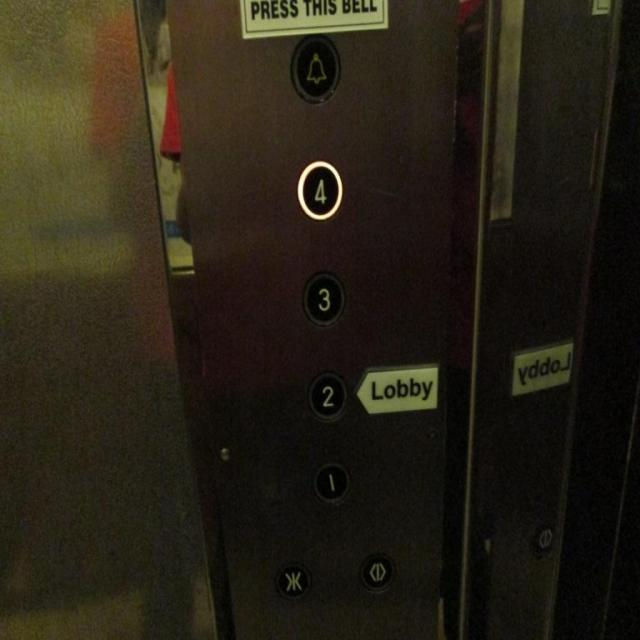1: (310, 458, 353, 508)
2: (305, 368, 348, 422)
3: (300, 272, 346, 326)
4: (295, 158, 344, 224)
alarm: (290, 33, 342, 107)
close: (273, 558, 312, 601)
open: (359, 548, 396, 594), (527, 518, 561, 558)
